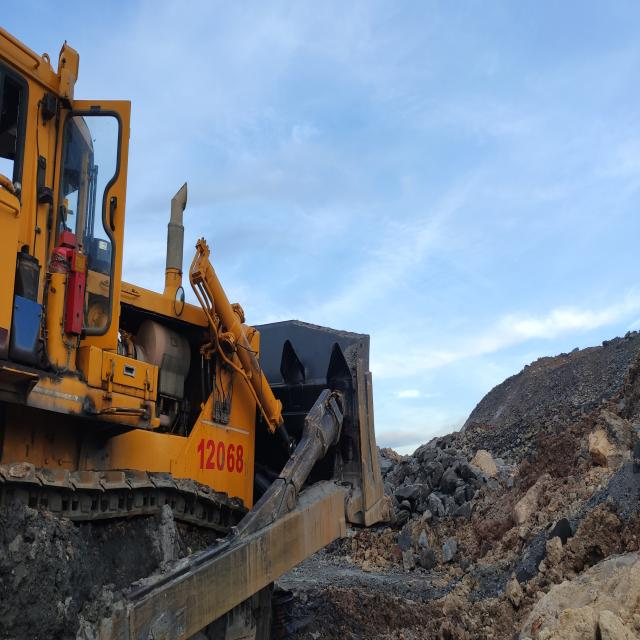buldozerpayloadergrader: (0, 27, 385, 640)
